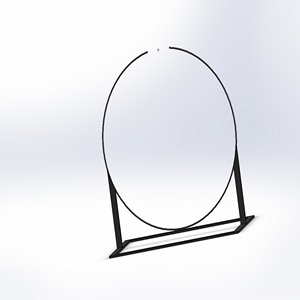circle: (98, 45, 255, 258)
